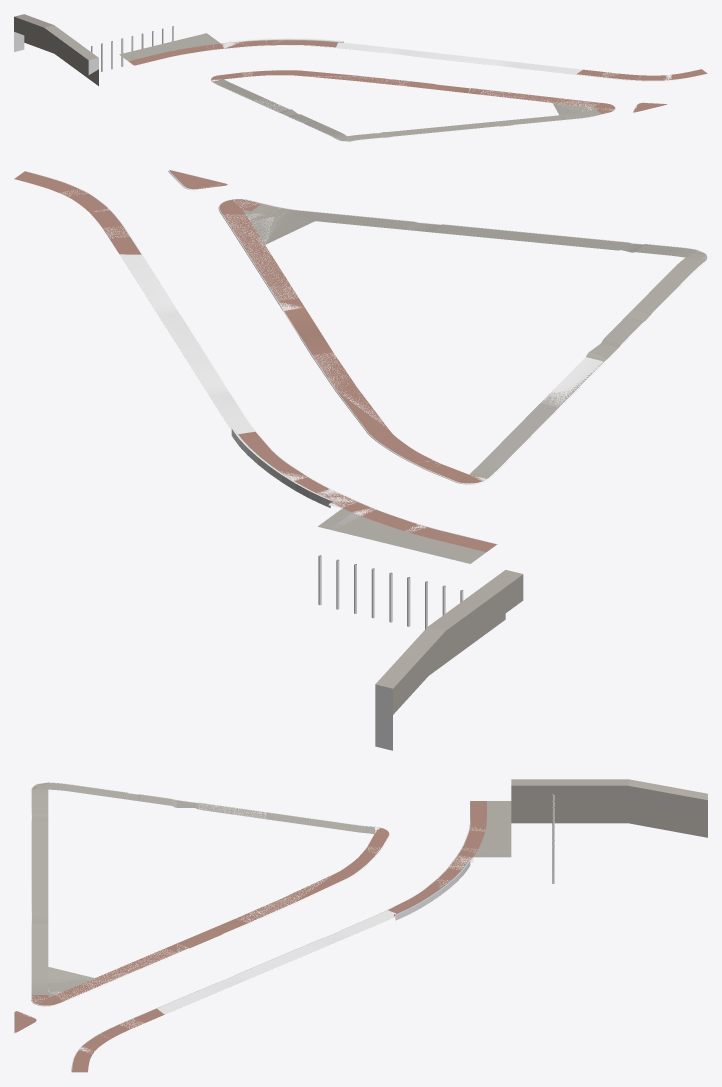
The model's file is sidewalk_dealership.dae.
3 renders of one model, top to bottom at view 1: azimuth 30°, elevation 25°; view 2: azimuth 150°, elevation 25°; view 3: azimuth 270°, elevation 25°, orthographic. The views are drawn at different scales.
Parts seen in each view (by area): view 1: sidewalk_dealership_a2000, sidewalk_dealership_a3000, Colmesh-1; view 2: sidewalk_dealership_a2000, sidewalk_dealership_a3000; view 3: sidewalk_dealership_a2000, sidewalk_dealership_a3000, Colmesh-1.
Boxes of the visible parts, x1,y1,x2,y2 form: sidewalk_dealership_a2000: (14,14,707,141); sidewalk_dealership_a3000: (14,26,707,141); Colmesh-1: (142,33,666,139); sidewalk_dealership_a2000: (14,170,706,714); sidewalk_dealership_a3000: (25,170,707,750); sidewalk_dealership_a2000: (15,779,707,1072); sidewalk_dealership_a3000: (14,782,554,1072); Colmesh-1: (14,782,553,1034).
Size of the model in its own units: 178 by 180 by 29.85.
